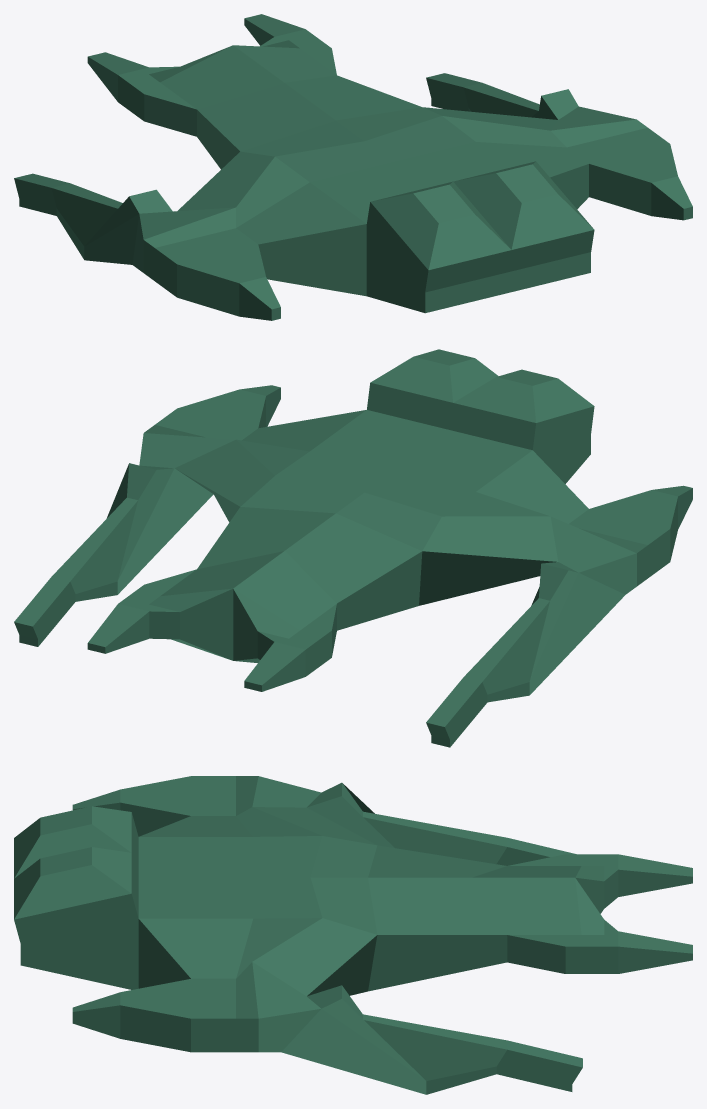
File: MilitarySmallShip.fbx
3 views of the same model, one above another, from view 1: azimuth 30°, elevation 25°; view 2: azimuth 150°, elevation 25°; view 3: azimuth 270°, elevation 25° (orthographic).
Visible parts, largest first — view 1: EShip1; view 2: EShip1; view 3: EShip1.
Boxes of the visible parts, x1,y1,x2,y2 form: EShip1: (14, 14, 692, 320); EShip1: (14, 349, 692, 747); EShip1: (14, 776, 692, 1094).
Bounding box in the file's own units: 594 × 172 × 703.
